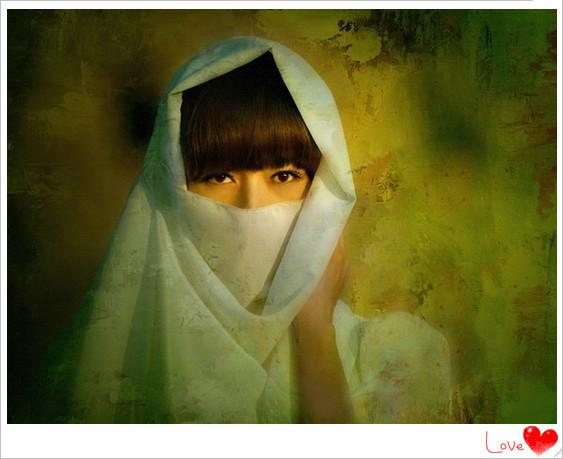WRONG: (187, 147, 319, 279)
